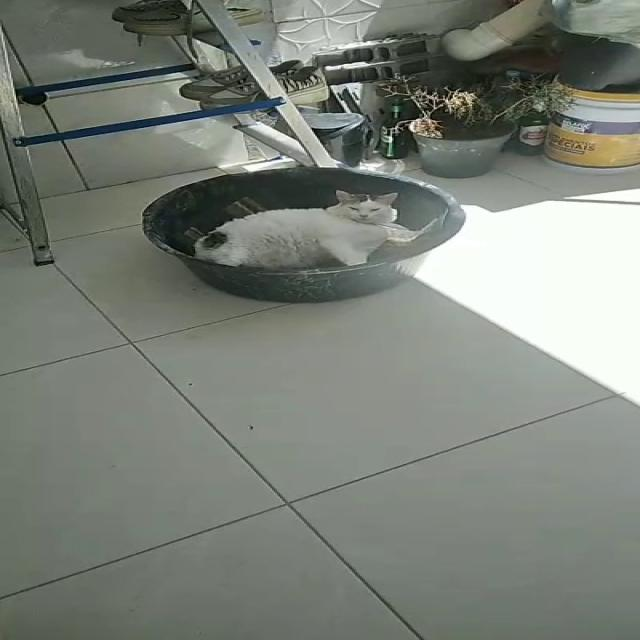Simba: (189, 183, 411, 276)
